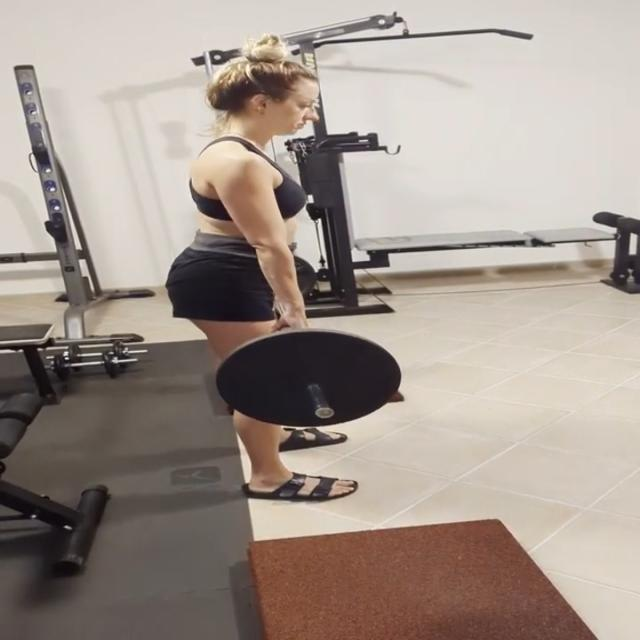barbell: (210, 326, 402, 430)
